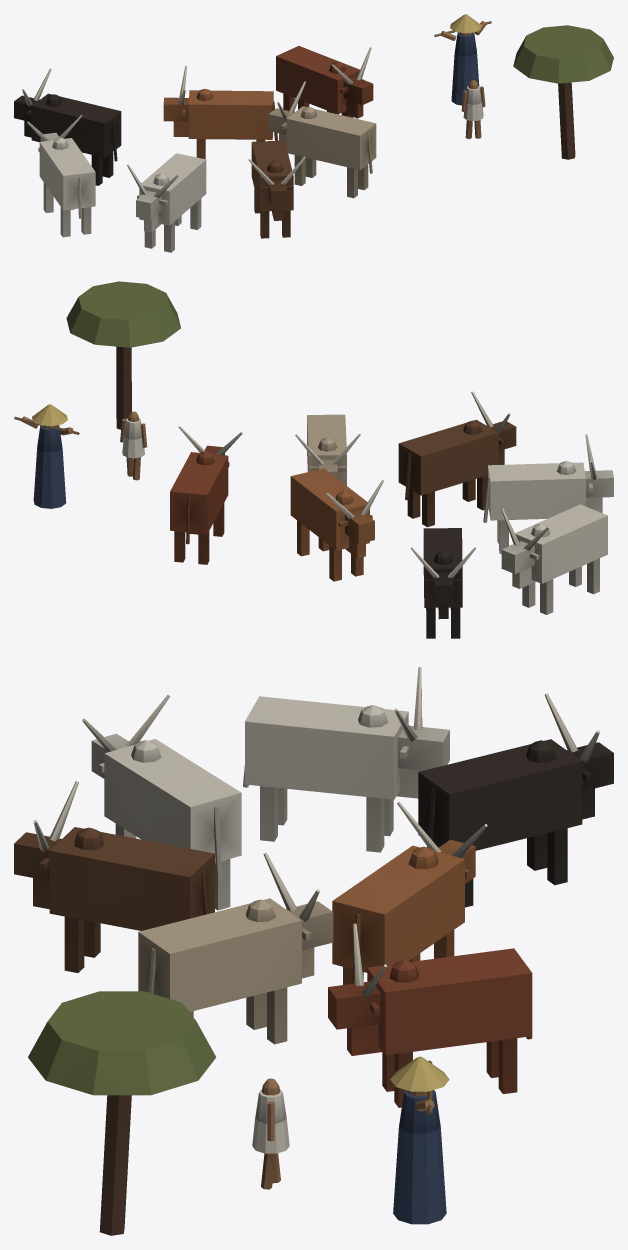
The model's file is shepherd.glb.
3 views of the same model, one above another, from view 1: azimuth 30°, elevation 25°; view 2: azimuth 150°, elevation 25°; view 3: azimuth 270°, elevation 25° (orthographic). The views are drawn at different scales.
Parts seen in each view (by area): view 1: anim_graze, base; view 2: anim_graze, base; view 3: anim_graze, base.
Boxes of the visible parts, box(x1,y1,x2,y2) form: anim_graze: box(14, 46, 376, 252); base: box(434, 14, 613, 159); anim_graze: box(170, 391, 613, 638); base: box(14, 281, 180, 508); anim_graze: box(14, 667, 613, 1107); base: box(28, 991, 449, 1235).
Bounding box in the file's own units: 10.75 × 2.31 × 6.04.
